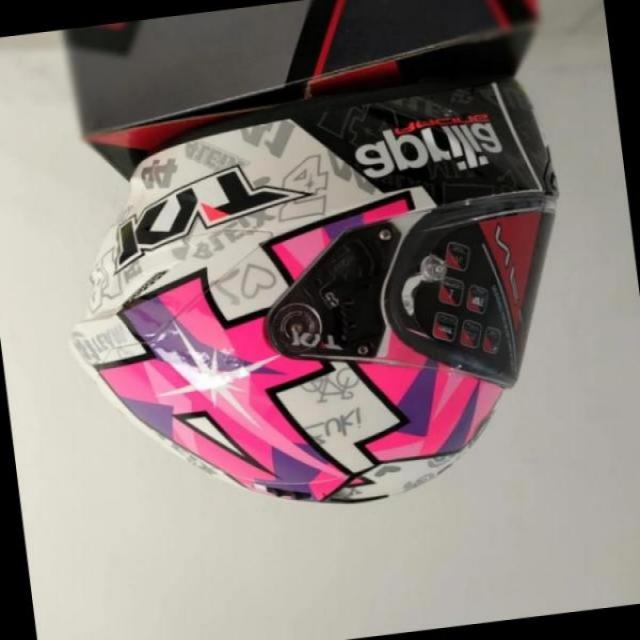Helmet: (79, 144, 536, 495)
